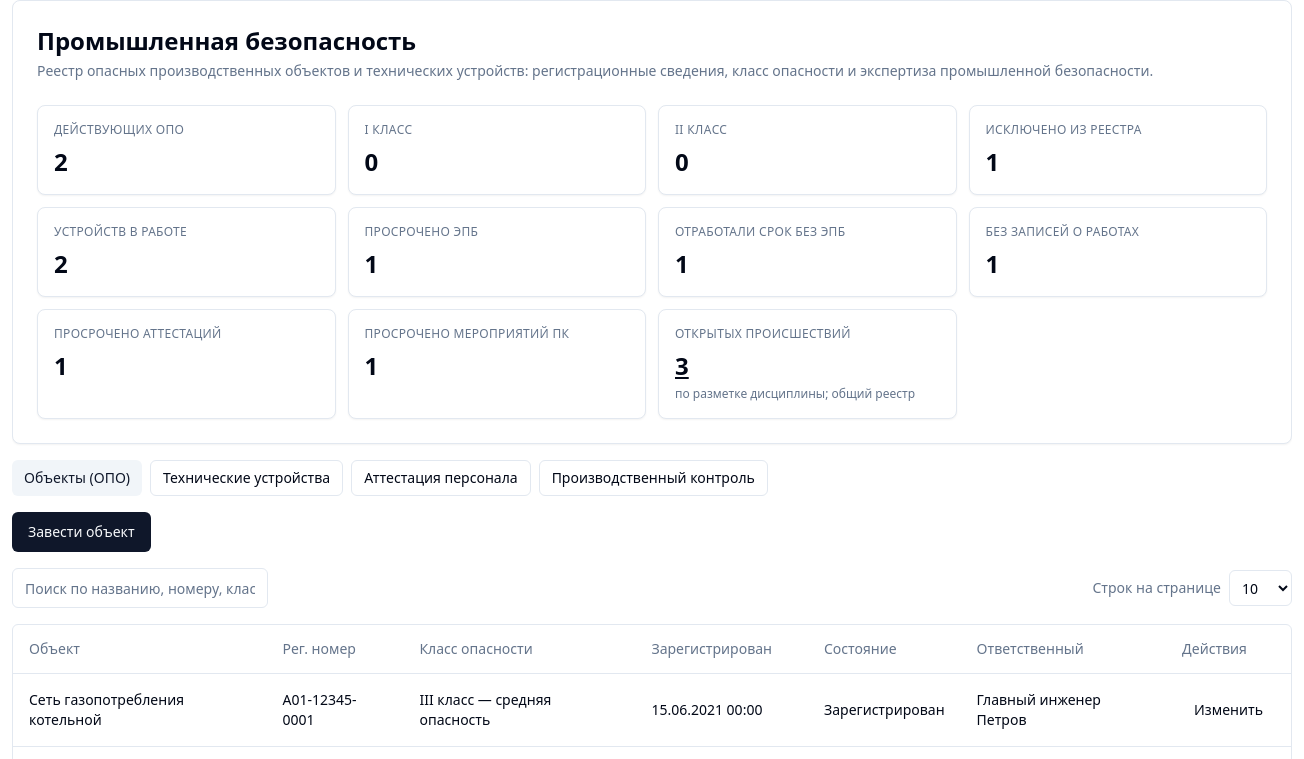
Test: IndustrialSafetyPage › аттестация открывается третьей секцией с областью словами
Expected: the text "Сеть газопотребления котельной" is shown, [13,673,266,746]
Click the button "Аттестация персонала": (441, 478) [351,460,531,496]
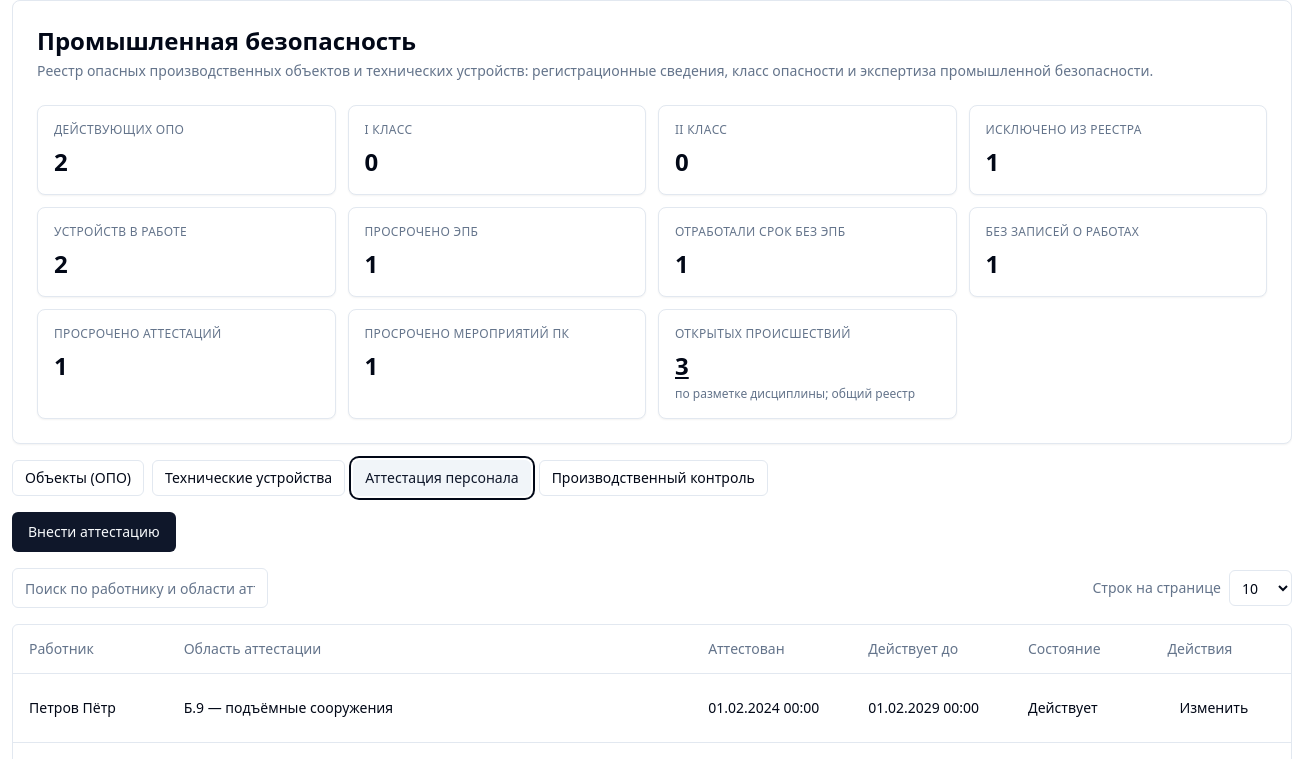
Expected: the text "Просрочено аттестаций" is shown, [54,325,222,342]
Expected: the text "Петров Пётр" is shown, [13,673,168,742]
Expected: the text "Б.9 — подъёмные сооружения" is shown, [168,673,692,742]
